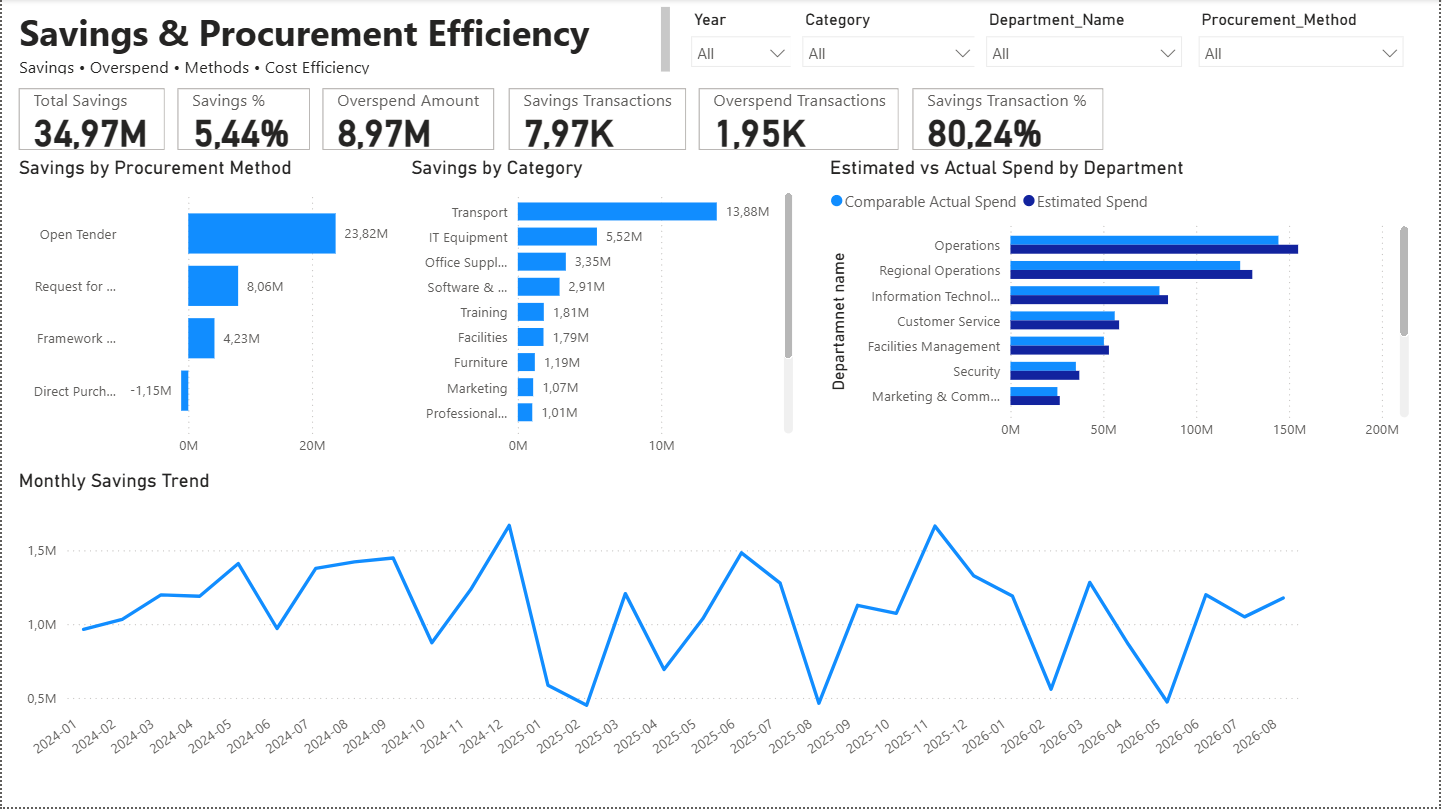

What the dashboard file says about the page in this screenshot:
{"tool":"powerbi","page":{"name":"Savings & Procurement Efficiency","canvas":[1280,720],"ordinal":2},"visuals":[{"type":"textbox","box":[9.6,2.7,590.1,70],"z":0},{"type":"cardVisual","fields":{"Data":["Fact_Procurement.Total Savings"]},"box":[9.6,75,140,65],"z":1000},{"type":"cardVisual","fields":{"Data":["Fact_Procurement.Savings %"]},"box":[151,75,128,65],"z":2000},{"type":"cardVisual","fields":{"Data":["Fact_Procurement.Overspend Amount"]},"box":[281,75,163,65],"z":3000},{"type":"cardVisual","fields":{"Data":["Fact_Procurement.Savings Transactions"]},"box":[446,75,168,65],"z":4000},{"type":"cardVisual","fields":{"Data":["Fact_Procurement.Overspend Transactions"]},"box":[616,75,188,65],"z":5000},{"type":"slicer","fields":{"Values":["Dim_Date.Year"]},"box":[603.8,4,109.8,71],"z":10000},{"type":"slicer","fields":{"Values":["Dim_Category.Category"]},"box":[702.6,4,175.6,71],"z":11000},{"type":"slicer","fields":{"Values":["Dim_Department.Department_Name"]},"box":[865.9,4,194.9,71],"z":12000},{"type":"cardVisual","fields":{"Data":["Fact_Procurement.Savings Transaction %"]},"box":[806,75,180,65],"z":12001},{"type":"clusteredBarChart","title":"Savings by Procurement Method","fields":{"Category":["Fact_Procurement.Procurement_Method"],"Y":["Fact_Procurement.Total Savings"]},"box":[9.6,140,352,275.8],"z":12002},{"type":"clusteredBarChart","title":"Estimated vs Actual Spend by Department","fields":{"Category":["Dim_Department.Department_Name"],"Y":["Fact_Procurement.Comparable Actual Spend","Fact_Procurement.Estimated Spend"]},"box":[732,140,525.6,275],"z":12003},{"type":"clusteredBarChart","title":"Savings by Category","fields":{"Category":["Dim_Category.Category"],"Y":["Fact_Procurement.Total Savings"]},"box":[359,140,350,275.8],"z":12004},{"type":"lineChart","title":"Monthly Savings Trend","fields":{"Category":["Dim_Date.Year_Month"],"Y":["Fact_Procurement.Total Savings"]},"box":[9.6,418,1150,290],"z":12005},{"type":"slicer","fields":{"Values":["Fact_Procurement.Procurement_Method"]},"box":[1055.2,4,203.1,71],"z":12006}]}

Visuals, with their boxes in screenshot pixels (x1, y1, x2, y2), scaled from the page's 1280x720 canvas onto the 1442x811 screenshot:
textbox: (x1=11, y1=3, x2=676, y2=82)
cardVisual - Fact_Procurement.Total Savings: (x1=11, y1=84, x2=169, y2=158)
cardVisual - Fact_Procurement.Savings %: (x1=170, y1=84, x2=314, y2=158)
cardVisual - Fact_Procurement.Overspend Amount: (x1=317, y1=84, x2=500, y2=158)
cardVisual - Fact_Procurement.Savings Transactions: (x1=502, y1=84, x2=692, y2=158)
cardVisual - Fact_Procurement.Overspend Transactions: (x1=694, y1=84, x2=906, y2=158)
slicer - Dim_Date.Year: (x1=680, y1=5, x2=804, y2=84)
slicer - Dim_Category.Category: (x1=792, y1=5, x2=989, y2=84)
slicer - Dim_Department.Department_Name: (x1=975, y1=5, x2=1195, y2=84)
cardVisual - Fact_Procurement.Savings Transaction %: (x1=908, y1=84, x2=1111, y2=158)
"Savings by Procurement Method" clusteredBarChart: (x1=11, y1=158, x2=407, y2=468)
"Estimated vs Actual Spend by Department" clusteredBarChart: (x1=825, y1=158, x2=1417, y2=467)
"Savings by Category" clusteredBarChart: (x1=404, y1=158, x2=799, y2=468)
"Monthly Savings Trend" lineChart: (x1=11, y1=471, x2=1306, y2=797)
slicer - Fact_Procurement.Procurement_Method: (x1=1189, y1=5, x2=1418, y2=84)
